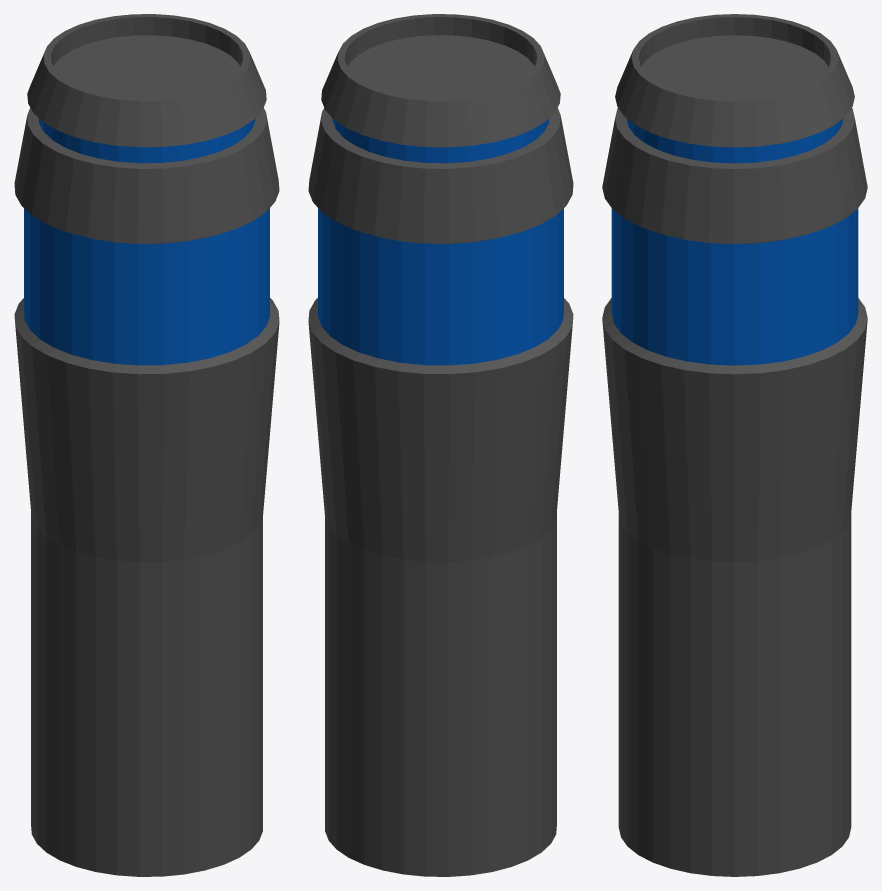
The model's file is Paper_Collector.fbx.
3 renders of one model, left to right at view 1: azimuth 30°, elevation 25°; view 2: azimuth 150°, elevation 25°; view 3: azimuth 270°, elevation 25°, orthographic.
Visible parts, largest first — view 1: Collector; view 2: Collector; view 3: Collector.
Part boxes in pixels (x1=…): Collector: x1=14, y1=14, x2=279, y2=876; Collector: x1=308, y1=14, x2=573, y2=876; Collector: x1=602, y1=14, x2=867, y2=876.
Bounding box in the file's own units: 105 × 335 × 105.
